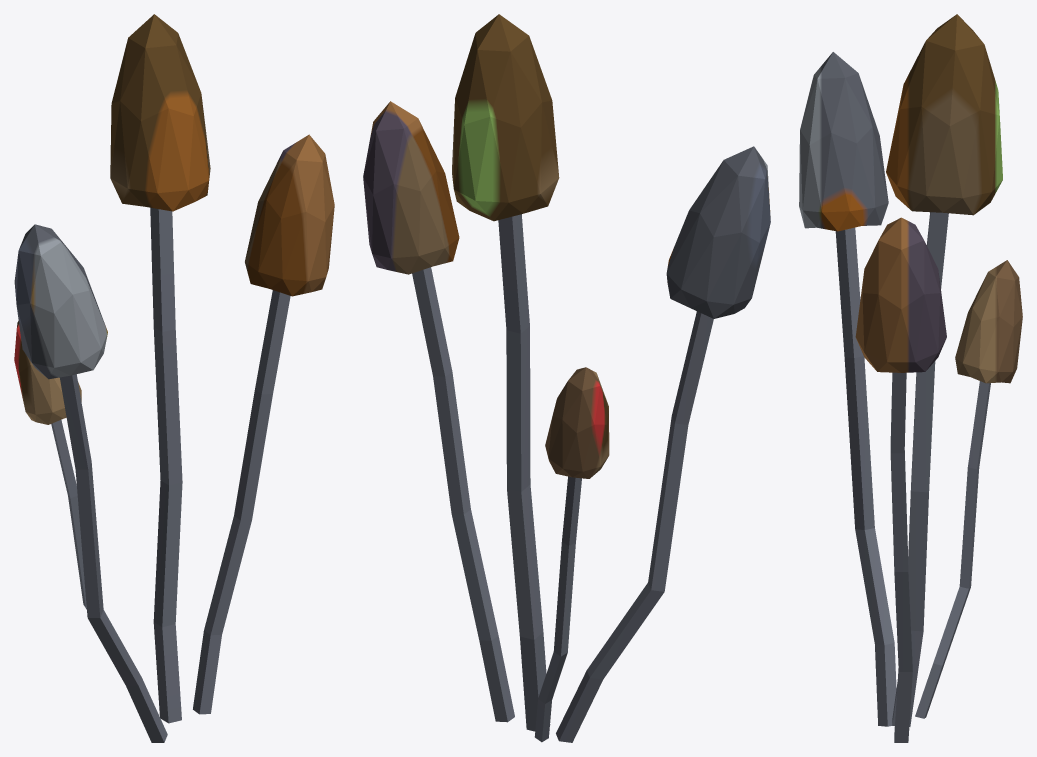
Rendered from Mushroom_03.fbx.
3 views of the same model, side by side, from view 1: azimuth 30°, elevation 25°; view 2: azimuth 150°, elevation 25°; view 3: azimuth 270°, elevation 25° (orthographic). The views are drawn at different scales.
Visible parts, largest first — view 1: Mushroom_03; view 2: Mushroom_03; view 3: Mushroom_03.
Part boxes in pixels (x1,y1,x2,y2): Mushroom_03: (14,14,334,742); Mushroom_03: (363,14,770,742); Mushroom_03: (799,14,1022,742).
Size of the model in its own units: 0.418 by 0.816 by 0.2274.
